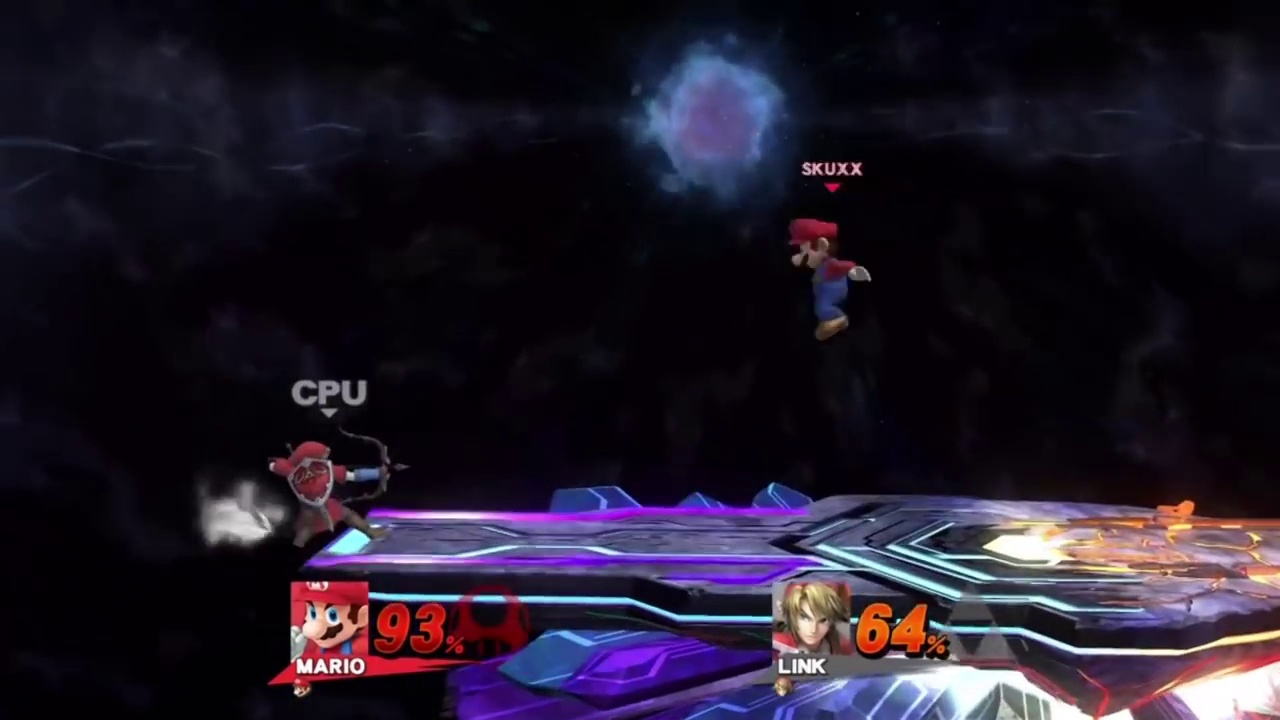Mario: (789, 220, 874, 340)
